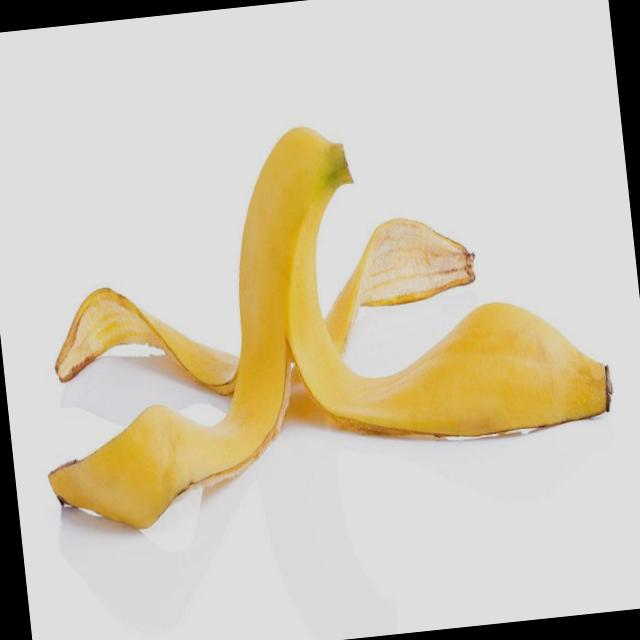banana: (210, 109, 592, 512)
